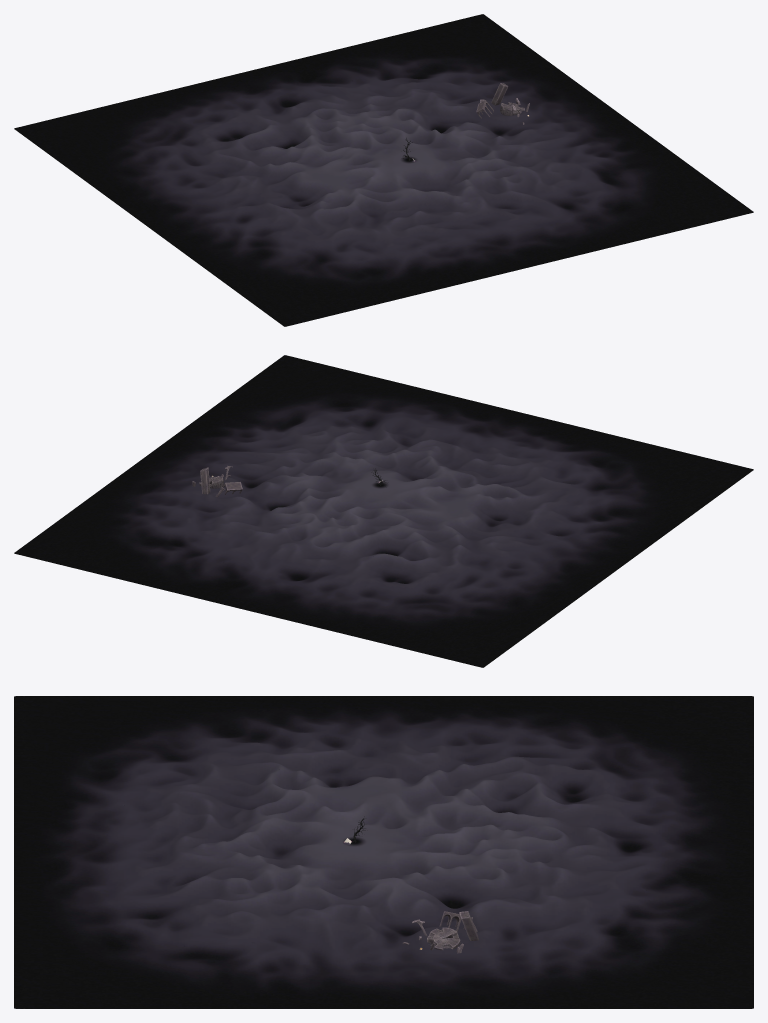
File: dunes.glb
3 views of the same model, one above another, from view 1: azimuth 30°, elevation 25°; view 2: azimuth 150°, elevation 25°; view 3: azimuth 270°, elevation 25° (orthographic). The views are drawn at different scales.
Parts seen in each view (by area): view 1: L2; view 2: L2; view 3: L2, Cylinder.002_cell.002.
Part boxes in pixels (x1,y1,x2,y2): L2: [14, 14, 753, 326]; L2: [14, 355, 753, 667]; L2: [14, 696, 753, 1008]; Cylinder.002_cell.002: [427, 927, 460, 950].
Size of the model in its own units: 10 by 0.8354 by 10.
15 materials, 14 textured.
